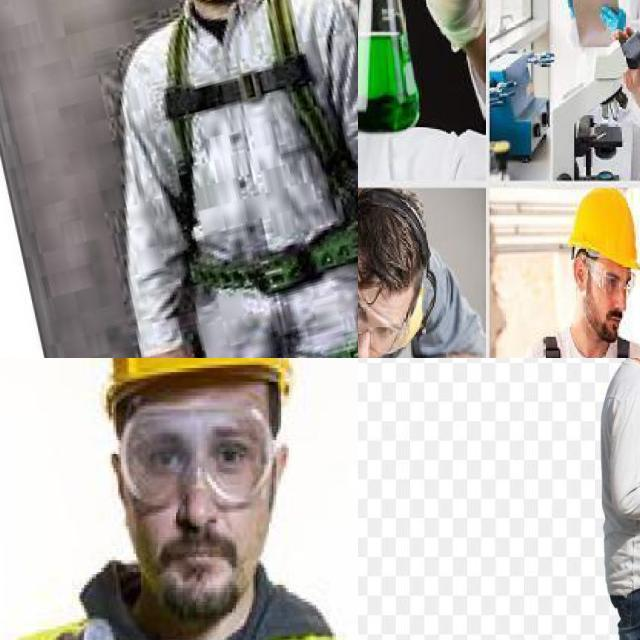Harness: (165, 0, 358, 292)
No_Ear-Protection: (570, 256, 589, 293)
face_nomask: (134, 430, 268, 589), (590, 263, 632, 331), (358, 290, 398, 358)
glasses: (116, 394, 274, 506), (358, 245, 412, 358), (577, 244, 639, 299)
hand_glove: (358, 0, 492, 44), (595, 0, 626, 32)
head_helmet: (95, 358, 277, 398), (562, 189, 640, 270)
head_nohelmet: (358, 191, 440, 275)
person: (0, 358, 358, 640), (512, 200, 640, 358), (358, 201, 486, 358)
